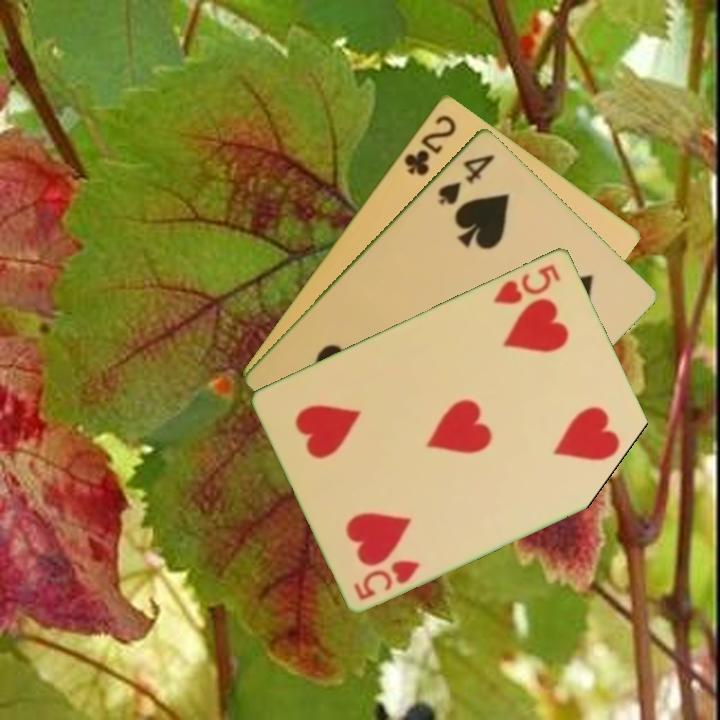2c: (400, 110, 459, 179)
4s: (434, 150, 498, 208)
5h: (350, 555, 423, 603), (490, 260, 564, 307)
